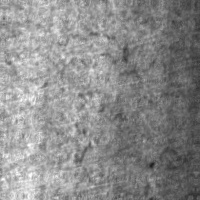crazing: (28, 26, 182, 99), (71, 102, 198, 171)
